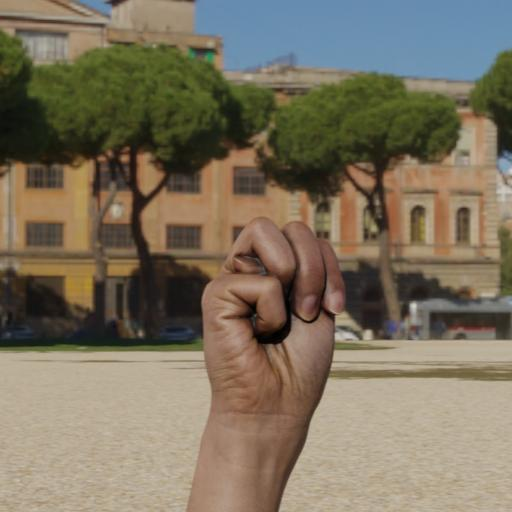M: (174, 209, 368, 512)
